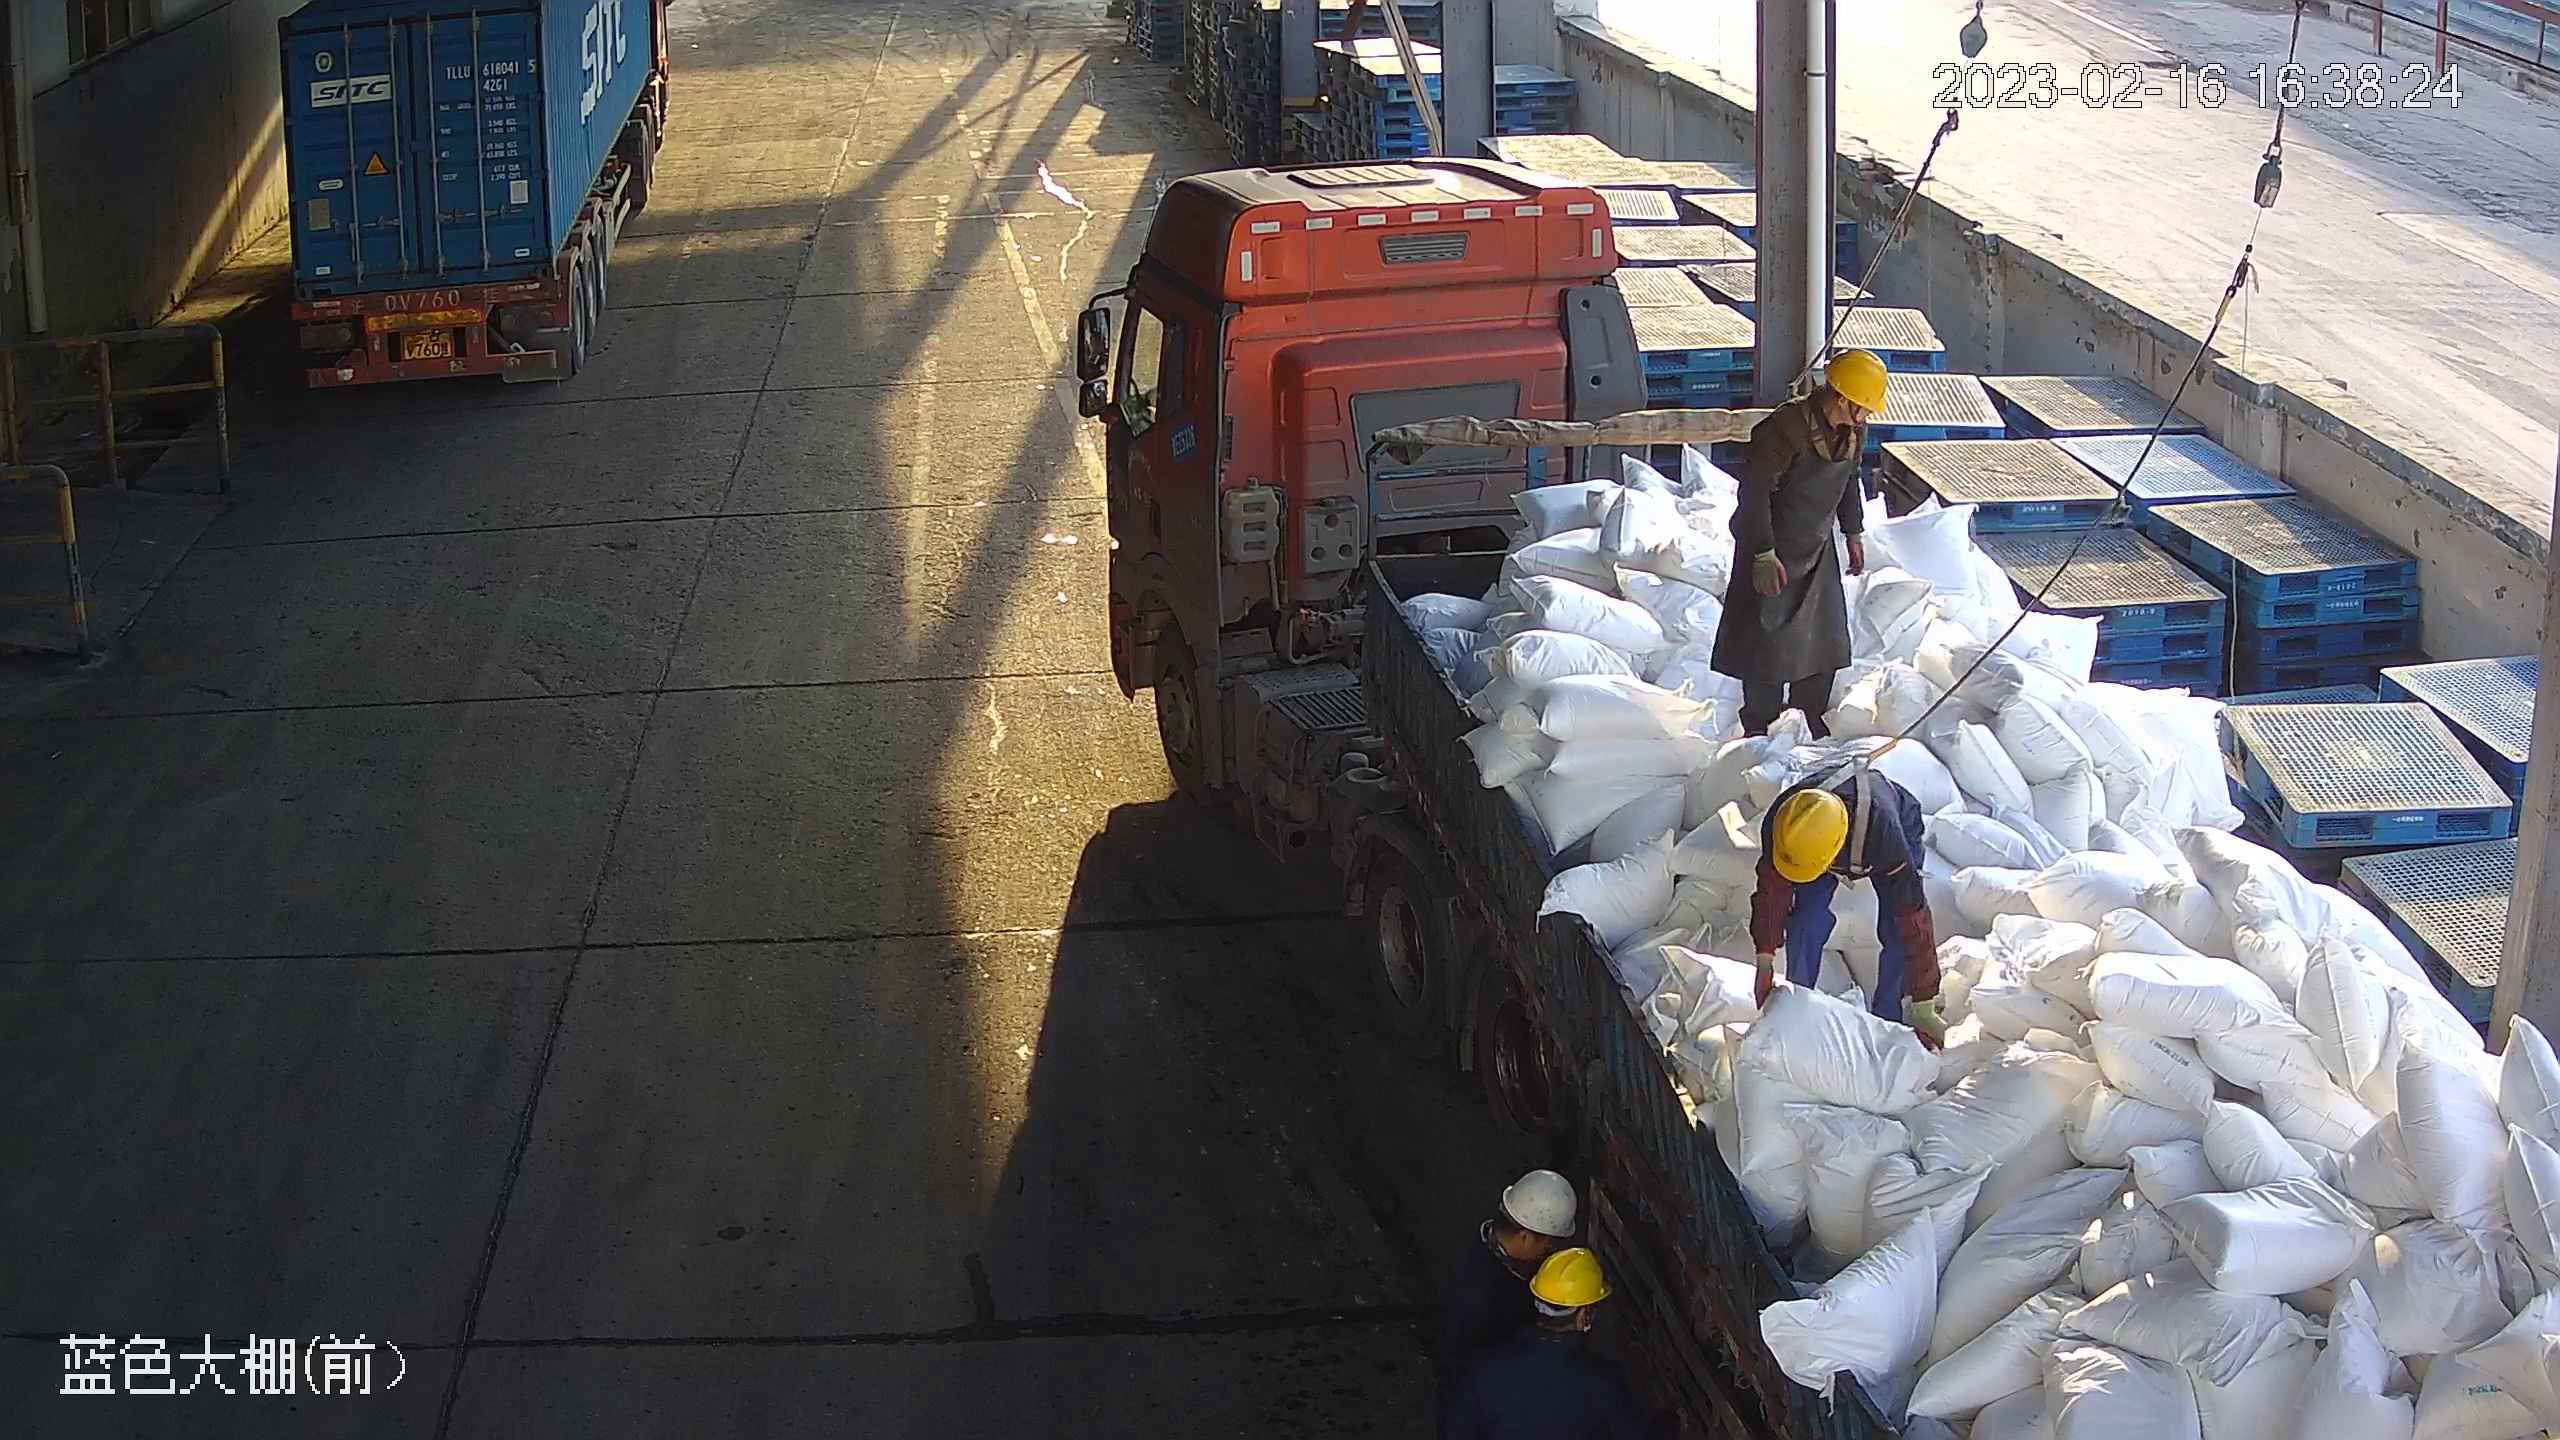belt: (1814, 756, 1881, 879), (1785, 371, 1840, 451)
head: (1731, 338, 1901, 501), (1749, 764, 1935, 906)
helmet: (1768, 777, 1848, 886), (1818, 349, 1911, 410)
people: (1716, 341, 1905, 747), (1751, 767, 1966, 1056)
truck: (1075, 166, 2560, 1440), (270, 1, 675, 395)
